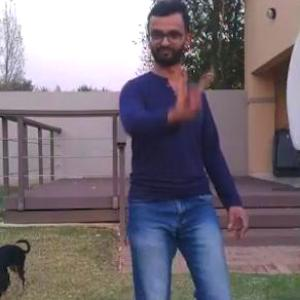takeoff-hand: (164, 62, 209, 120)
